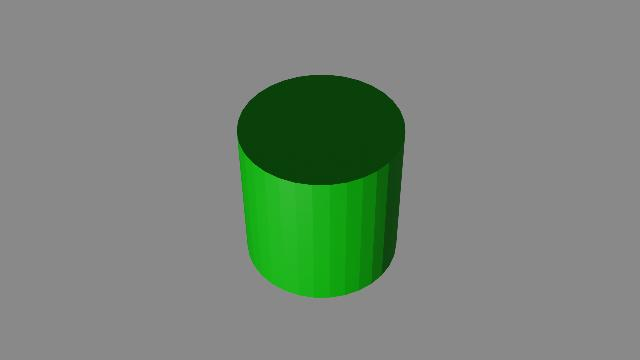Cylinder: (214, 60, 412, 300)
